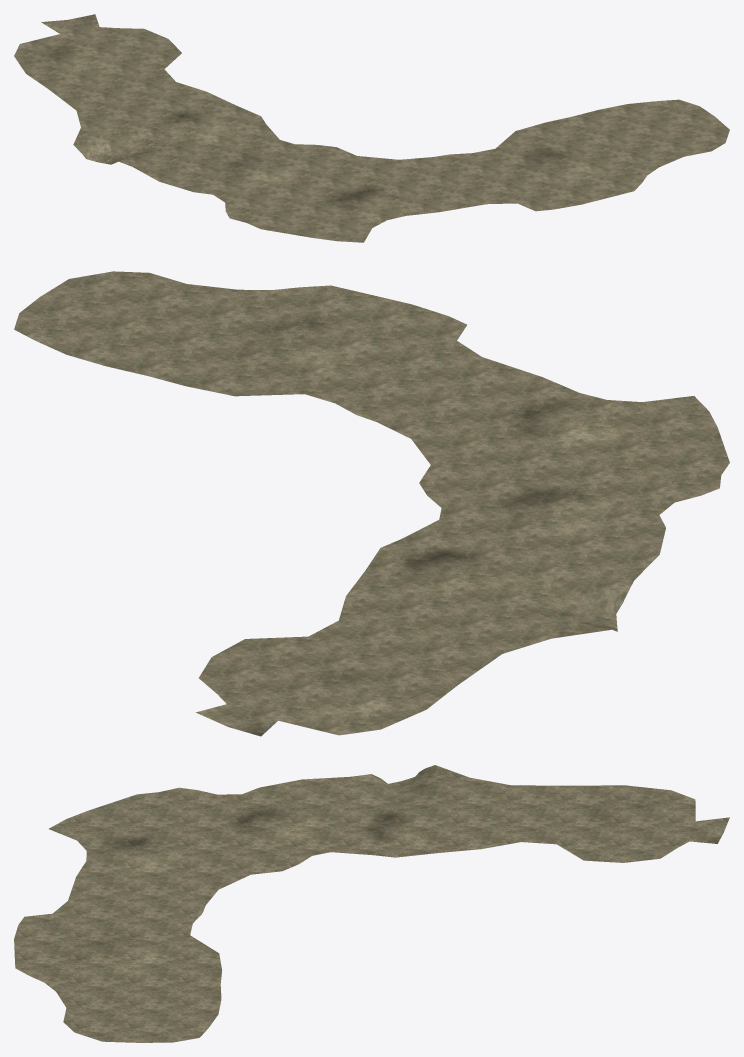
Rendered from EKH_JAIL_PS_JA_MAIN_JAIL_FLOOR93938.fbx.
3 renders of one model, top to bottom at view 1: azimuth 30°, elevation 25°; view 2: azimuth 150°, elevation 25°; view 3: azimuth 270°, elevation 25°, orthographic. The views are drawn at different scales.
Parts seen in each view (by area): view 1: EKH_JAIL_PS_JA_MAIN_JAIL_FLOOR93938; view 2: EKH_JAIL_PS_JA_MAIN_JAIL_FLOOR93938; view 3: EKH_JAIL_PS_JA_MAIN_JAIL_FLOOR93938.
Part boxes in pixels (x1=…): EKH_JAIL_PS_JA_MAIN_JAIL_FLOOR93938: x1=14, y1=14, x2=729, y2=242; EKH_JAIL_PS_JA_MAIN_JAIL_FLOOR93938: x1=14, y1=271, x2=729, y2=736; EKH_JAIL_PS_JA_MAIN_JAIL_FLOOR93938: x1=14, y1=765, x2=729, y2=1042.
Bounding box in the file's own units: 243805 × 5050 × 265380.
1 material, 1 textured.
